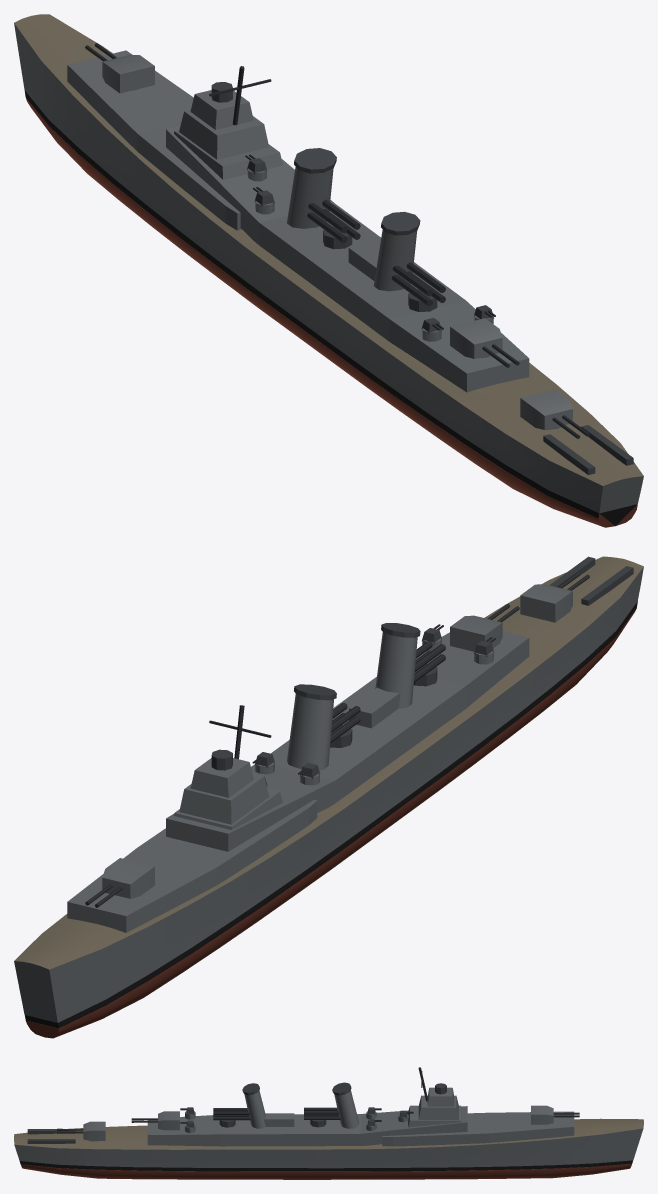
The model's file is destroyer_ijn.glb.
3 renders of one model, top to bottom at view 1: azimuth 30°, elevation 25°; view 2: azimuth 150°, elevation 25°; view 3: azimuth 270°, elevation 25°, orthographic. The views are drawn at different scales.
Visible parts, largest first — view 1: destroyer_ijn; view 2: destroyer_ijn; view 3: destroyer_ijn.
Boxes of the visible parts, x1=… form: destroyer_ijn: x1=14, y1=14, x2=643, y2=527; destroyer_ijn: x1=14, y1=556, x2=643, y2=1038; destroyer_ijn: x1=14, y1=1067, x2=643, y2=1179.
Size of the model in its own units: 11.45 by 22.09 by 118.
